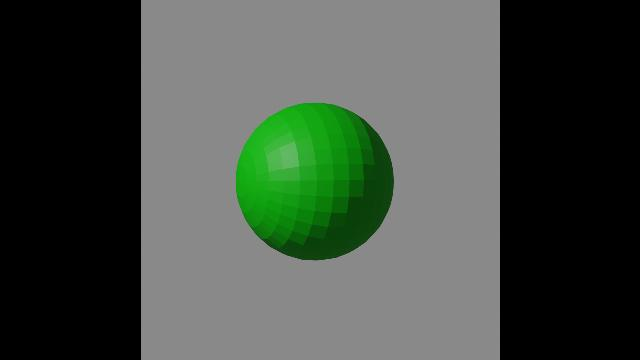Sphere: (230, 89, 406, 264)
